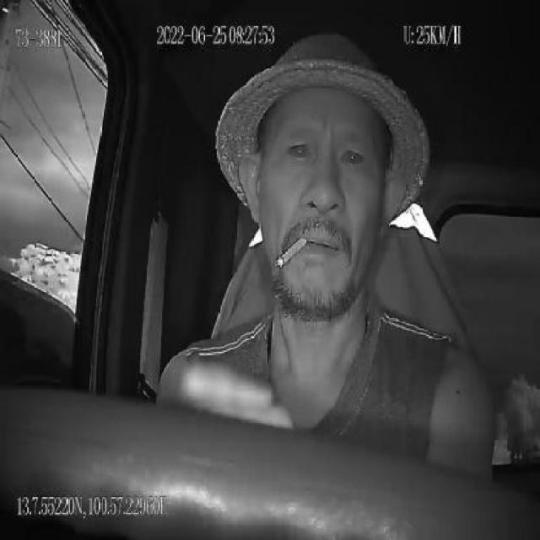smoking: (275, 232, 306, 273)
